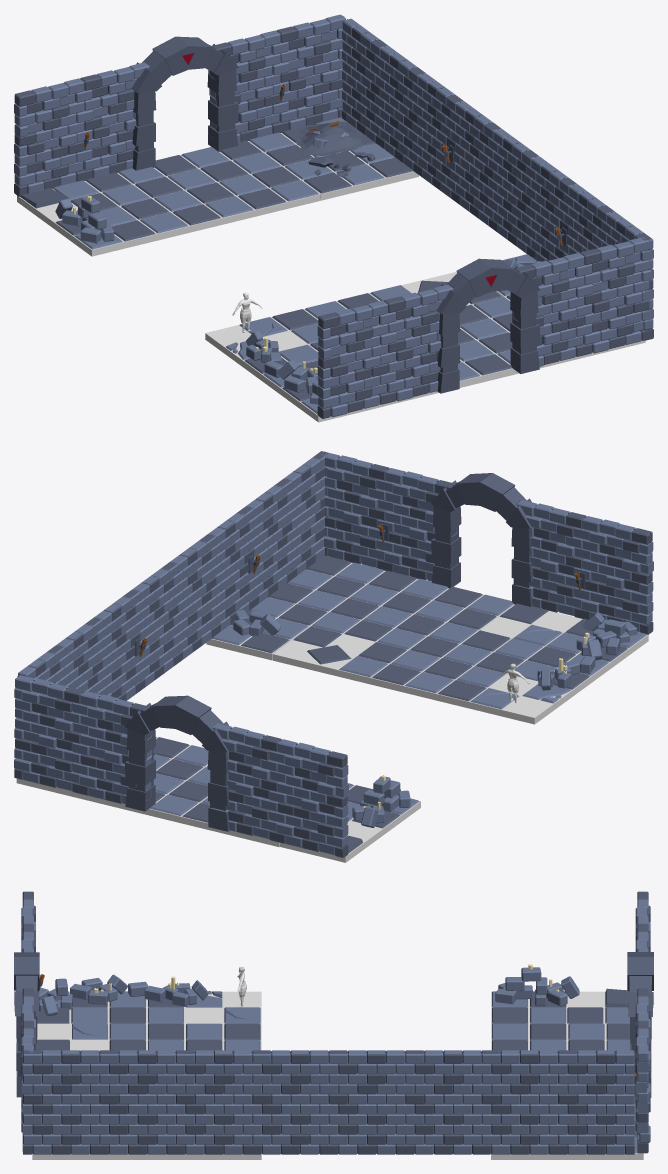
The model's file is MapSmall.fbx.
The picture shows the model from 3 angles, top to bottom: view 1: azimuth 30°, elevation 25°; view 2: azimuth 150°, elevation 25°; view 3: azimuth 270°, elevation 25°; orthographic projection.
Parts seen in each view (by area): view 1: floor.008, brick wall, brick wall.006, brick wall.004, door arc.002, door arc.003, floor.005, floor.009, debris.001, bricks.005, floor.002, bricks.004; view 2: floor.008, brick wall, brick wall.004, brick wall.006, door arc.002, door arc.003, floor.002, floor.005, floor.006, floor.009, bricks.006, bricks.005 (+2 smaller); view 3: brick wall, floor.008, brick wall.004, floor.005, floor.009, floor.006, brick wall.006, door arc.003, door arc.002, bricks.005, bricks.007, bricks.004.
Boxes of the visible parts, x1=… form: floor.008: x1=54, y1=117, x2=645, y2=422; brick wall: x1=342, y1=18, x2=653, y2=340; brick wall.006: x1=317, y1=236, x2=650, y2=418; brick wall.004: x1=14, y1=14, x2=345, y2=196; door arc.002: x1=131, y1=36, x2=238, y2=170; door arc.003: x1=436, y1=258, x2=540, y2=393; floor.005: x1=205, y1=317, x2=307, y2=366; floor.009: x1=17, y1=180, x2=119, y2=228; debris.001: x1=294, y1=121, x2=367, y2=155; bricks.005: x1=277, y1=359, x2=318, y2=394; floor.002: x1=401, y1=272, x2=503, y2=305; bricks.004: x1=246, y1=330, x2=278, y2=362; floor.008: x1=16, y1=555, x2=648, y2=847; brick wall: x1=18, y1=451, x2=328, y2=700; brick wall.004: x1=14, y1=675, x2=348, y2=857; brick wall.006: x1=321, y1=452, x2=653, y2=634; door arc.002: x1=124, y1=695, x2=229, y2=831; door arc.003: x1=431, y1=473, x2=533, y2=606; floor.002: x1=272, y1=626, x2=375, y2=676; floor.005: x1=469, y1=674, x2=572, y2=724; floor.006: x1=480, y1=603, x2=581, y2=646; floor.009: x1=280, y1=820, x2=383, y2=862; bricks.006: x1=233, y1=610, x2=280, y2=636; bricks.005: x1=576, y1=631, x2=619, y2=660; brick wall: x1=23, y1=1050, x2=634, y2=1154; floor.008: x1=32, y1=991, x2=643, y2=1159; brick wall.004: x1=635, y1=891, x2=650, y2=1153; floor.005: x1=185, y1=991, x2=261, y2=1023; floor.009: x1=566, y1=988, x2=629, y2=1023; floor.006: x1=37, y1=1023, x2=108, y2=1050; brick wall.006: x1=21, y1=891, x2=35, y2=1151; door arc.003: x1=14, y1=952, x2=39, y2=1097; door arc.002: x1=627, y1=952, x2=653, y2=1097; bricks.005: x1=70, y1=974, x2=127, y2=1004; bricks.007: x1=38, y1=978, x2=72, y2=1016; bricks.004: x1=162, y1=980, x2=208, y2=1006.
Bounding box in the file's own units: 1071 × 373 × 1763.
